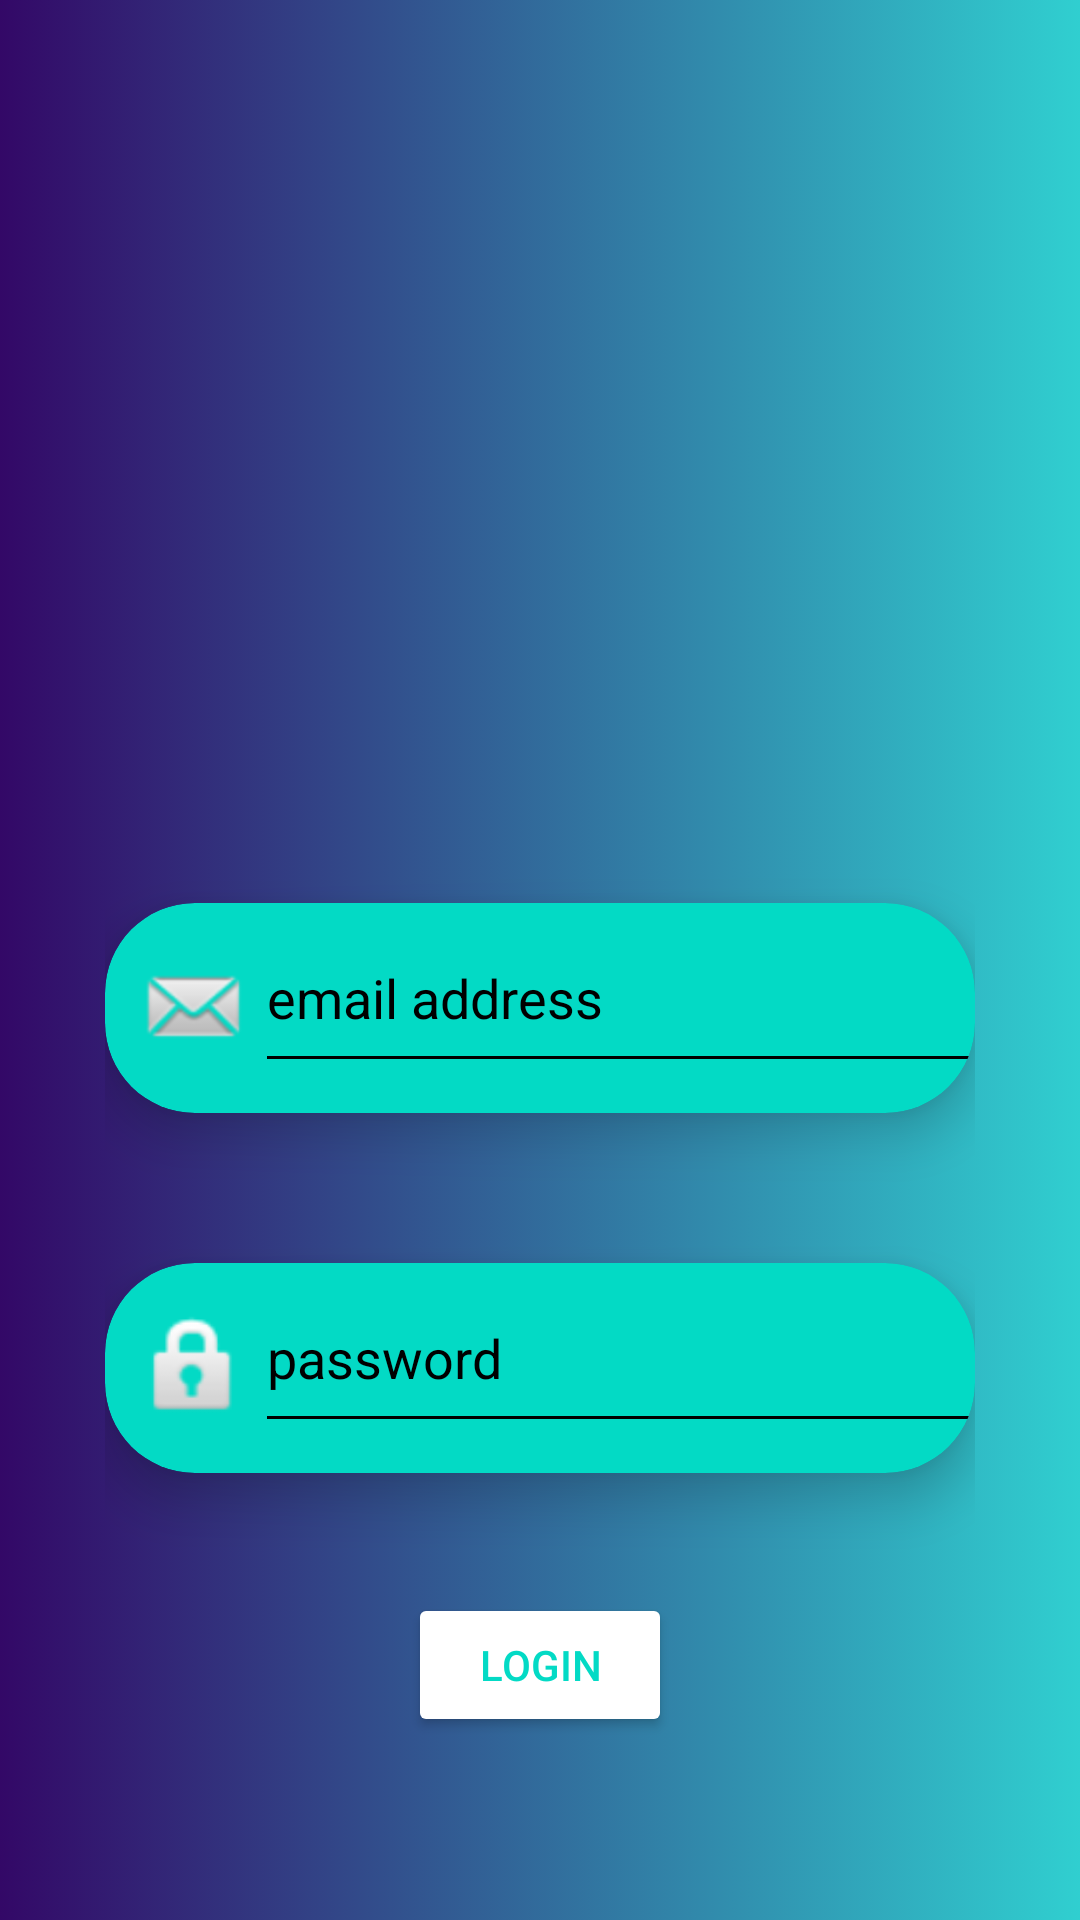

Named icons in this screenshot (1080×1920) and their bounding boxes, (left=x1, top=y1, right=x2, bottom=y2):
lock idle: (left=153, top=1318, right=232, bottom=1410)
sym action email: (left=147, top=976, right=240, bottom=1037)
